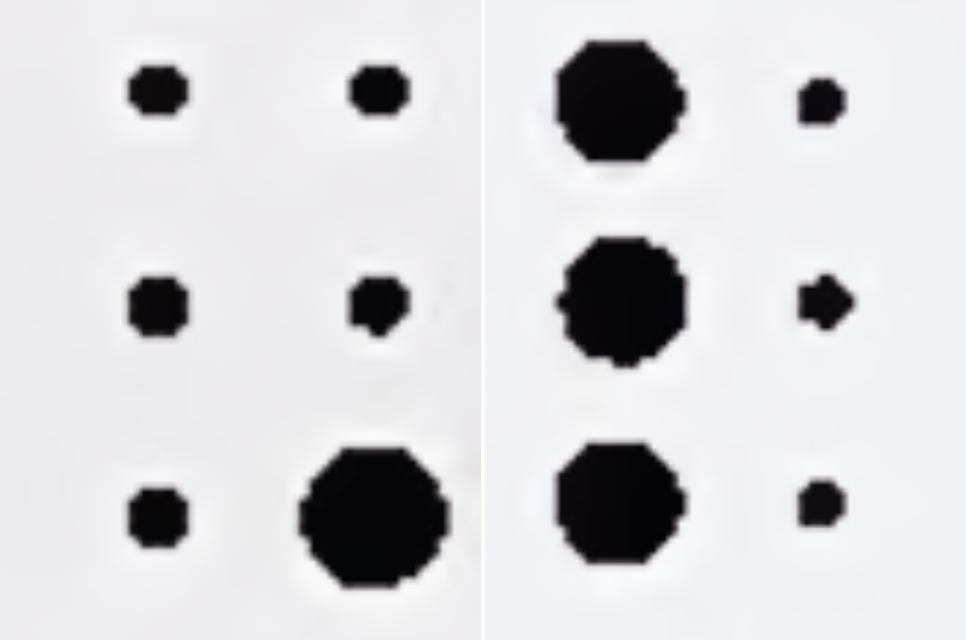L: (557, 40, 861, 565)
capital: (122, 62, 453, 588)
